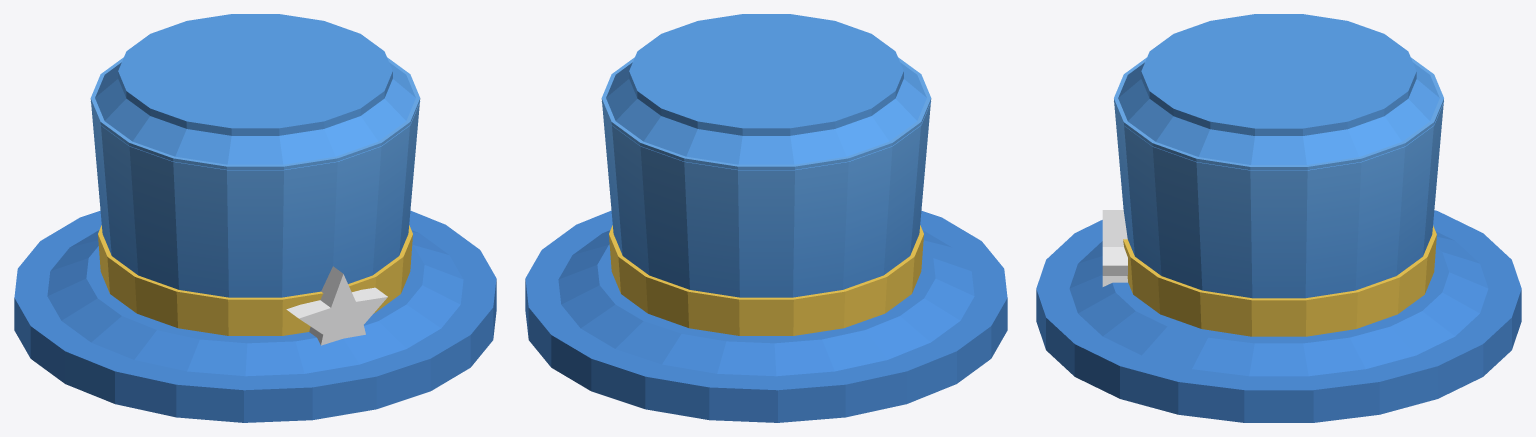
File: hat.glb
The picture shows the model from 3 angles, left to right: view 1: azimuth 30°, elevation 25°; view 2: azimuth 150°, elevation 25°; view 3: azimuth 270°, elevation 25°; orthographic projection.
Visible parts, largest first — view 1: hat_top; view 2: hat_top; view 3: hat_top.
Part boxes in pixels (x1,y1,x2,y2): hat_top: (14, 14, 496, 422); hat_top: (525, 14, 1007, 422); hat_top: (1036, 14, 1521, 422).
Bounding box in the file's own units: 0.6632 × 0.381 × 0.67.
1 material, 1 textured.
